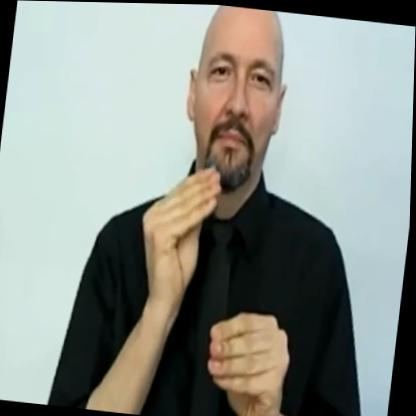Fix: (121, 152, 323, 416)
